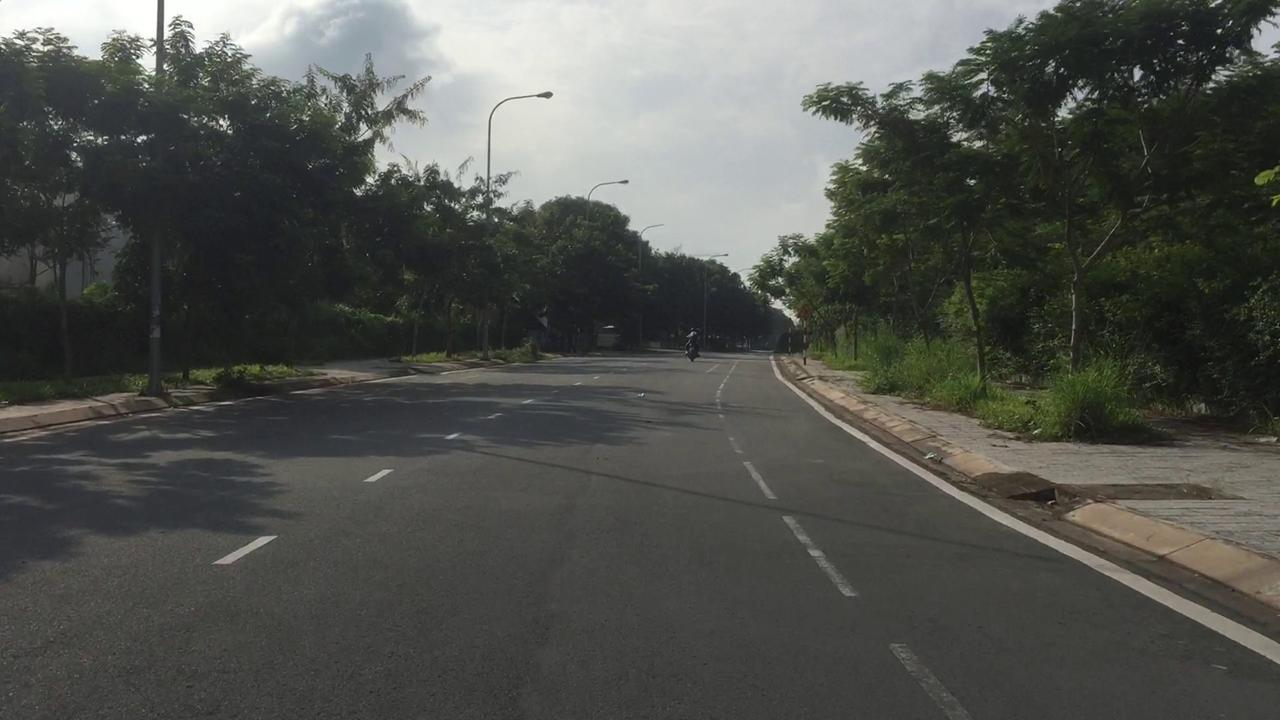R.301e: (796, 303, 814, 319)
